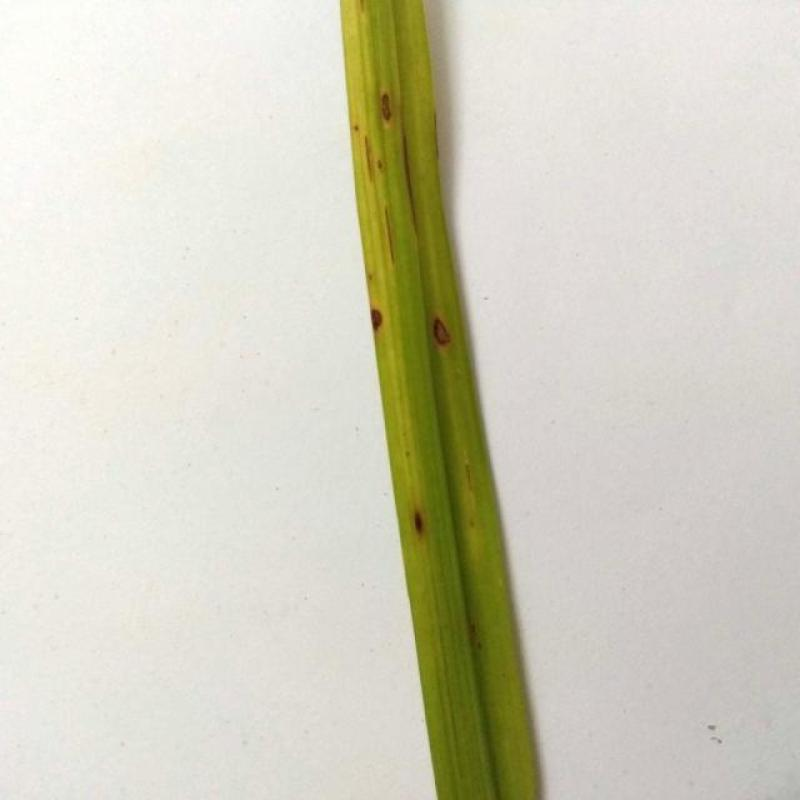Leaf_Blast: (334, 26, 450, 359), (381, 461, 472, 635)
